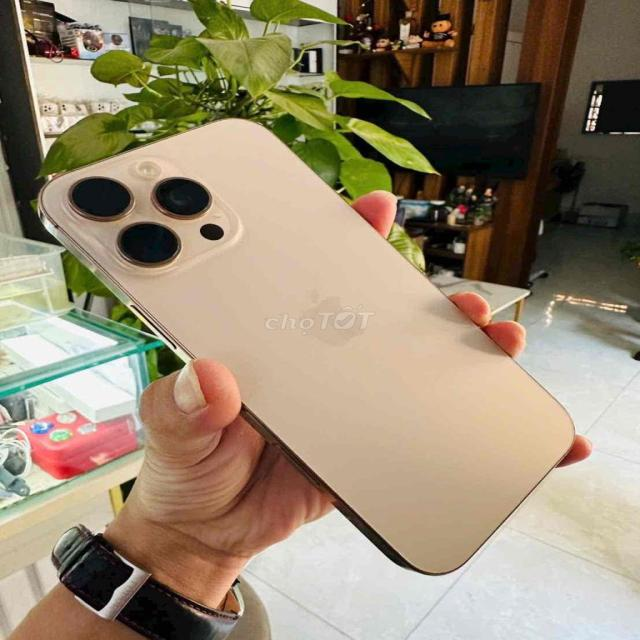gen_16: (40, 119, 573, 573)
